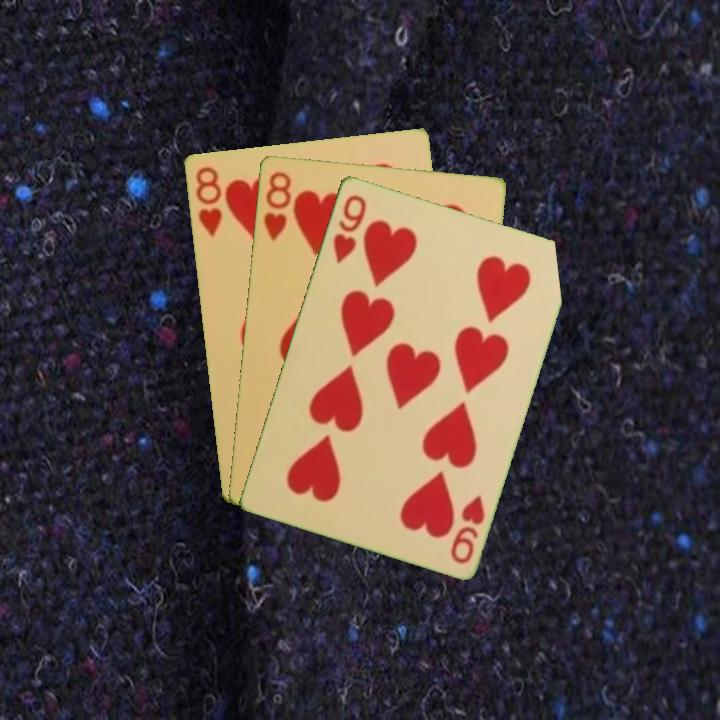8h: (259, 167, 294, 244), (191, 162, 225, 239)
9h: (446, 491, 487, 566), (329, 190, 369, 265)
